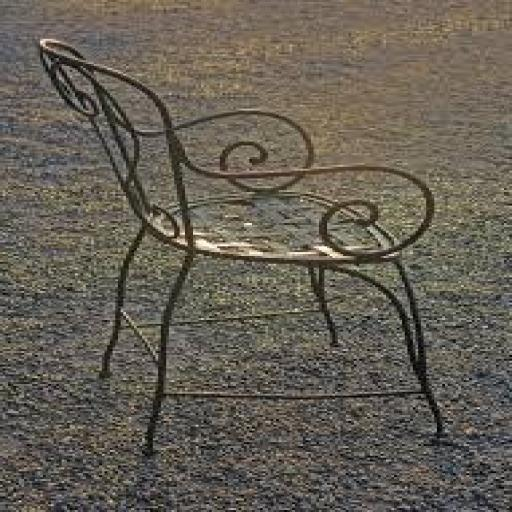chair: (31, 29, 452, 452)
